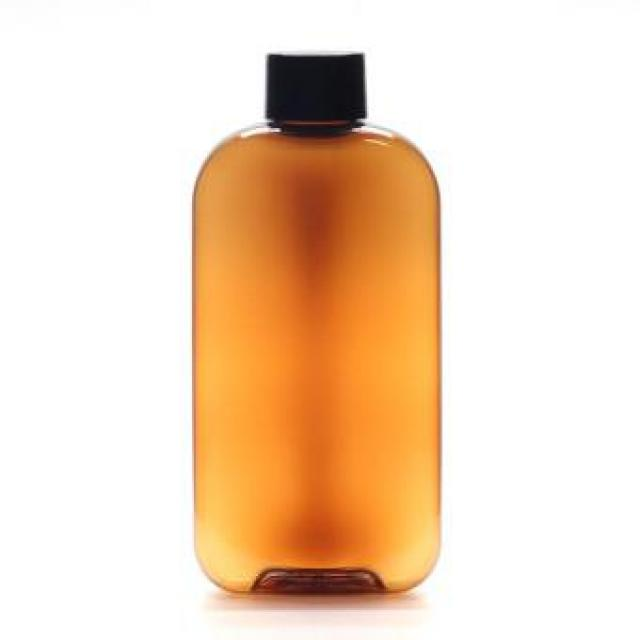bottle: (172, 44, 446, 630)
